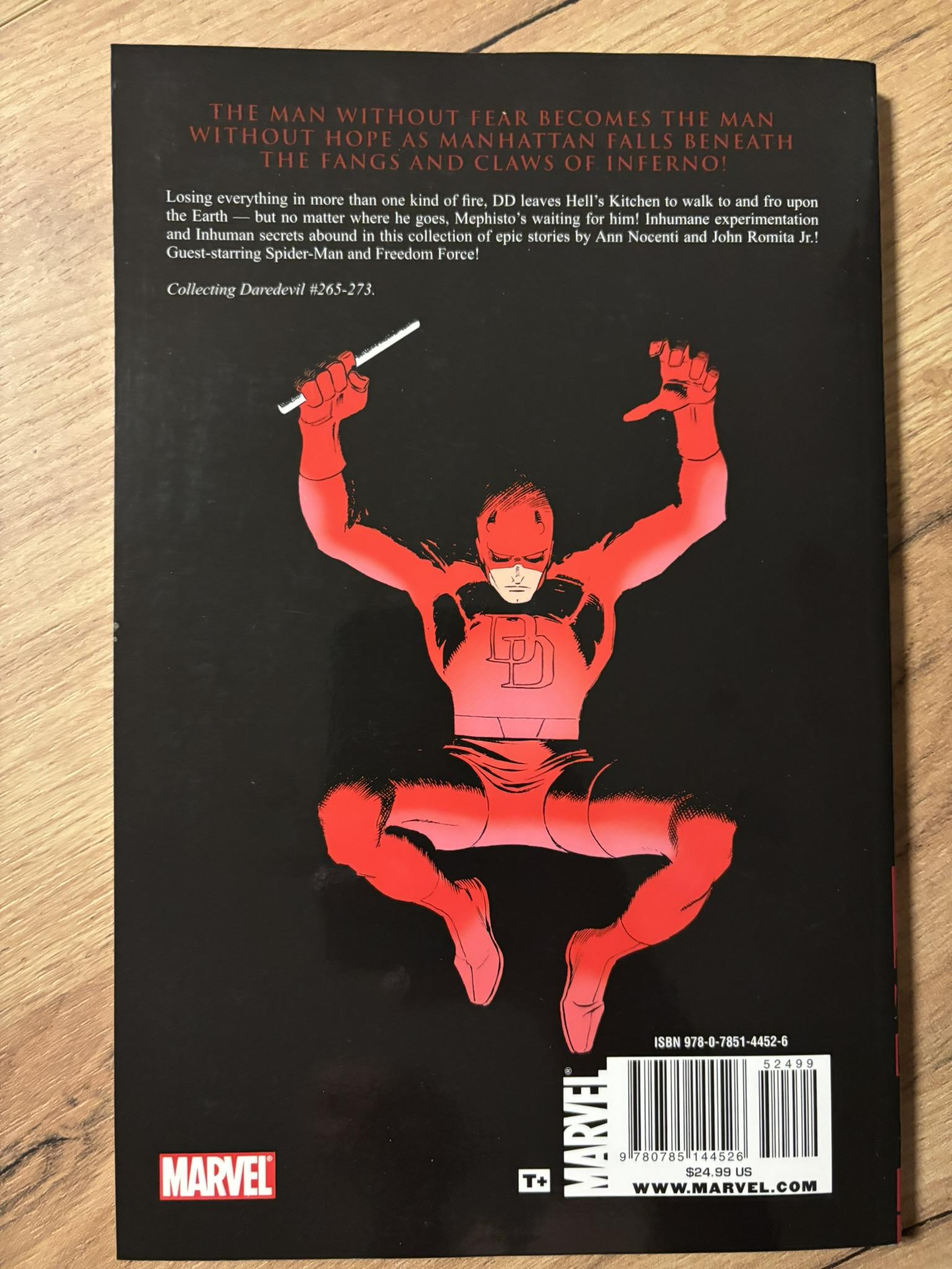comic: (112, 43, 899, 1258)
